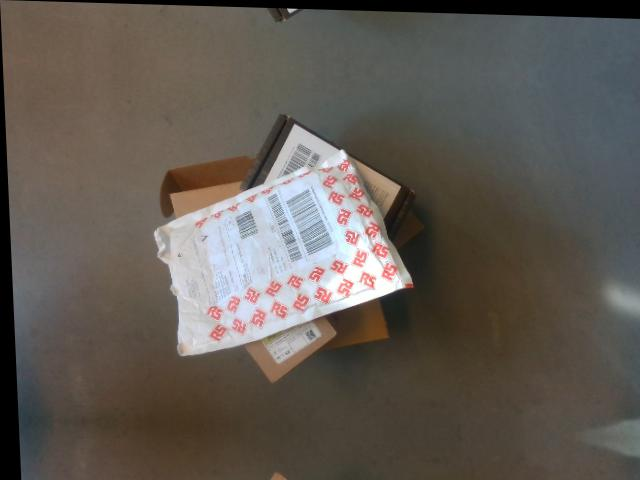label: (169, 174, 350, 311), (263, 321, 324, 365)
package: (156, 150, 415, 359), (244, 317, 339, 384)
